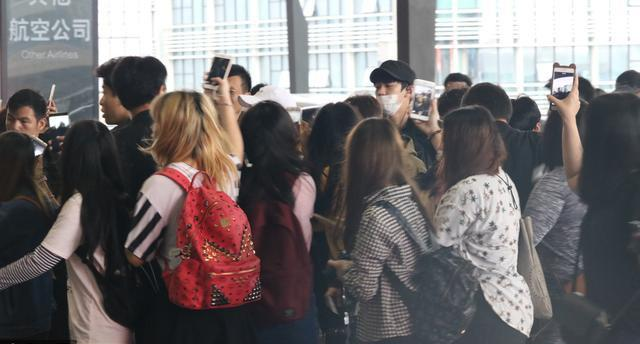NONE: (100, 84, 130, 126), (5, 113, 40, 143)
WRONG: (372, 75, 411, 114)
